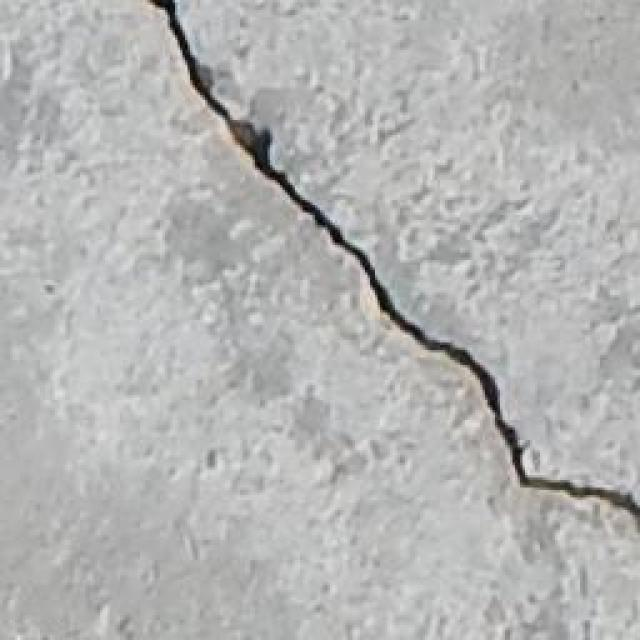concrete-crack: (143, 0, 640, 532)
